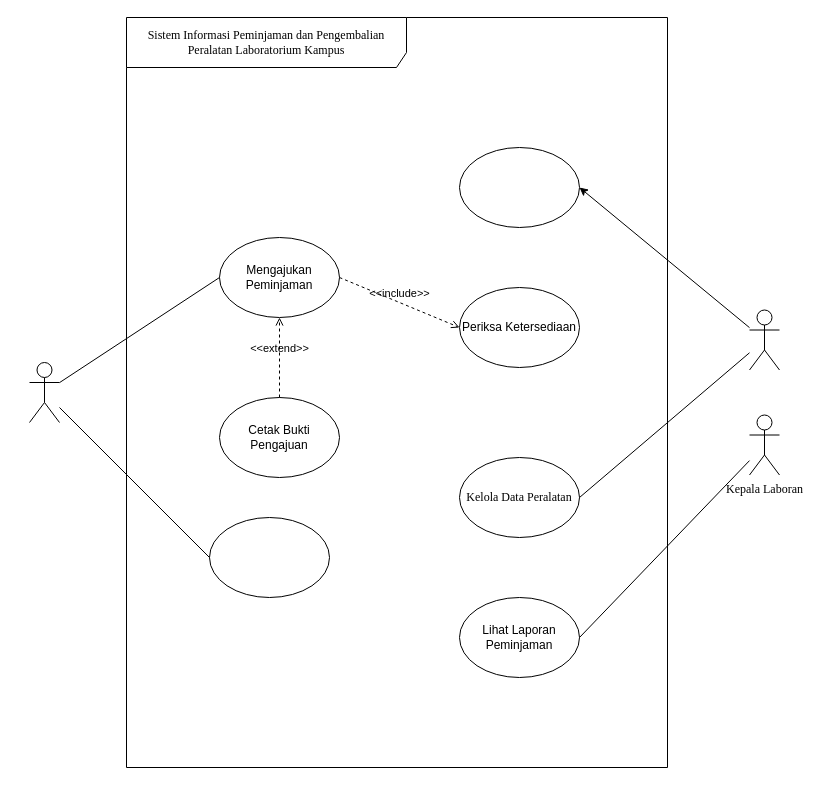
Some shapes in this 821 by 785 pixel diagram are drawn without their labels. Here are the shapes that lost their labels. From the top down, the centre of each, then its label:
pixel 519 187: Proses Kebutuhan Peminjaman
pixel 764 339: Petugas Laboran
pixel 44 392: Mahasiswa
pixel 269 557: Lihat Ketersediaan Peralatan
